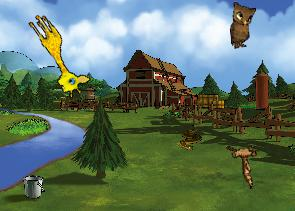eagle: (215, 131, 274, 189)
giraffe: (17, 10, 94, 101)
owl: (228, 0, 259, 49)
